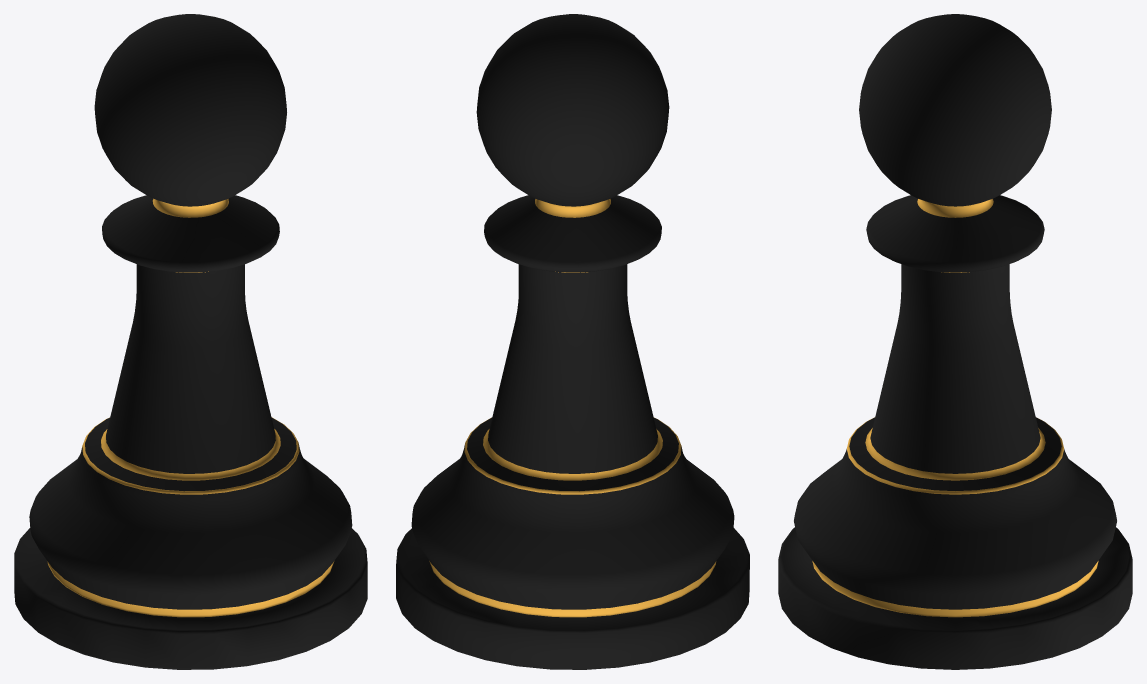
Rendered from gercek6_p_b.glb.
3 renders of one model, left to right at view 1: azimuth 30°, elevation 25°; view 2: azimuth 150°, elevation 25°; view 3: azimuth 270°, elevation 25°, orthographic.
Visible parts, largest first — view 1: p_b_0, p_b_1; view 2: p_b_0, p_b_1; view 3: p_b_0, p_b_1.
Part boxes in pixels (x1,y1,x2,y2): p_b_0: [14, 14, 367, 669]; p_b_1: [47, 198, 334, 617]; p_b_0: [396, 14, 749, 669]; p_b_1: [429, 199, 716, 617]; p_b_0: [778, 14, 1132, 669]; p_b_1: [812, 199, 1098, 617].
Size of the model in its own units: 0.5049 by 0.9 by 0.5045.
